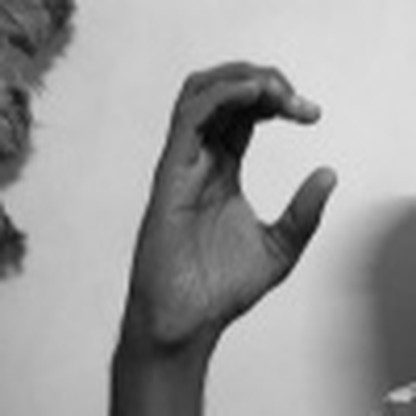c: (132, 44, 349, 330)
